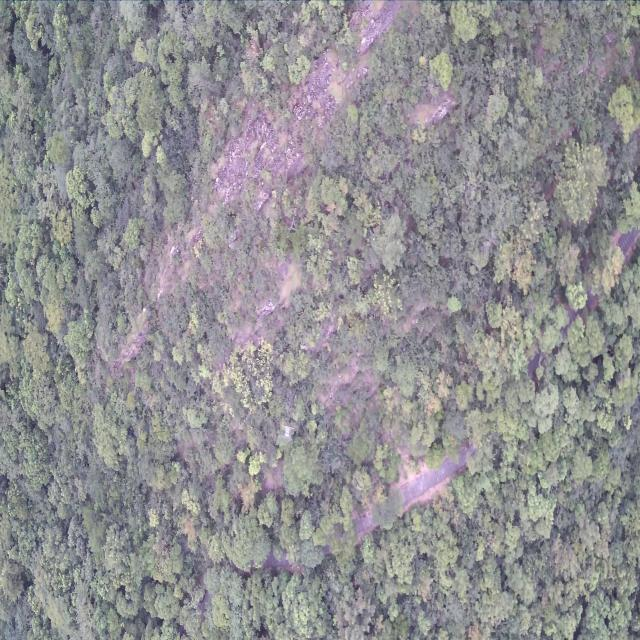UAV: (282, 424, 294, 442)
